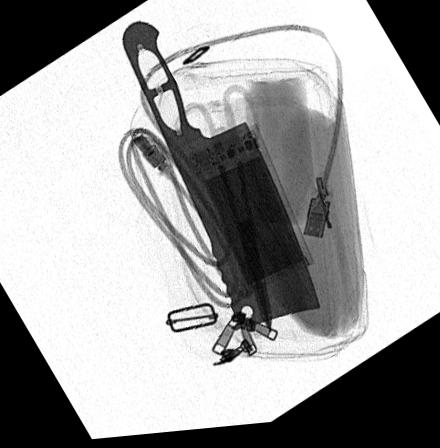Knife: (122, 20, 323, 336)
Powerbank: (184, 126, 315, 297)
Scissors: (176, 89, 271, 347)
